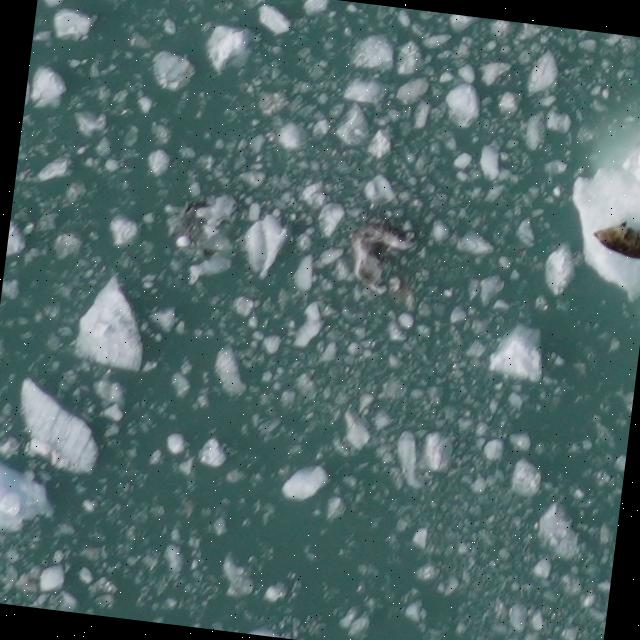seal: (588, 214, 640, 263)
